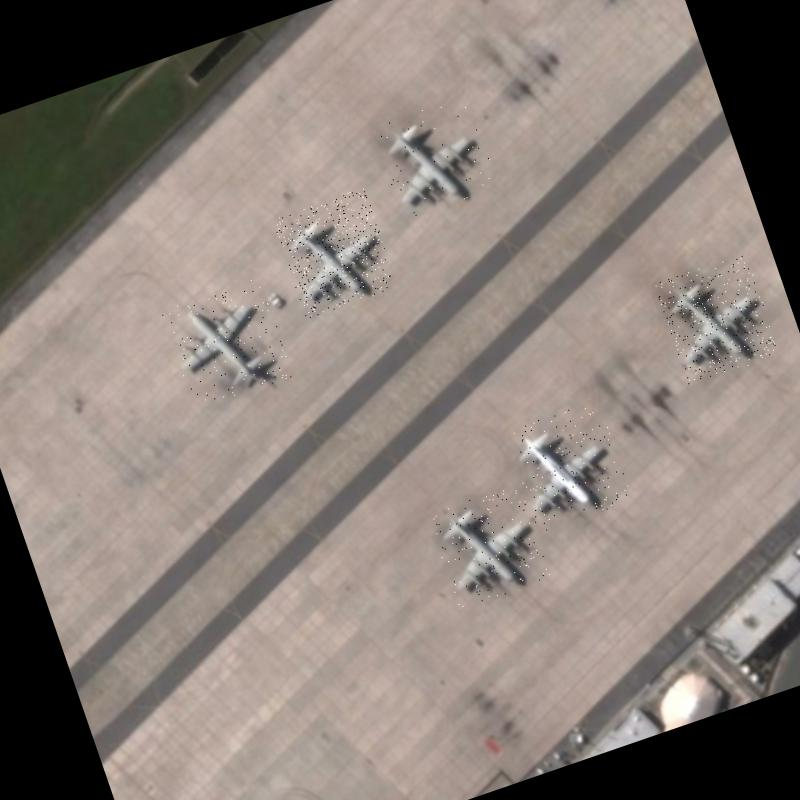A9: (161, 277, 295, 411), (503, 398, 634, 533), (372, 94, 505, 226), (654, 252, 781, 386), (272, 187, 399, 319), (426, 482, 552, 610)
